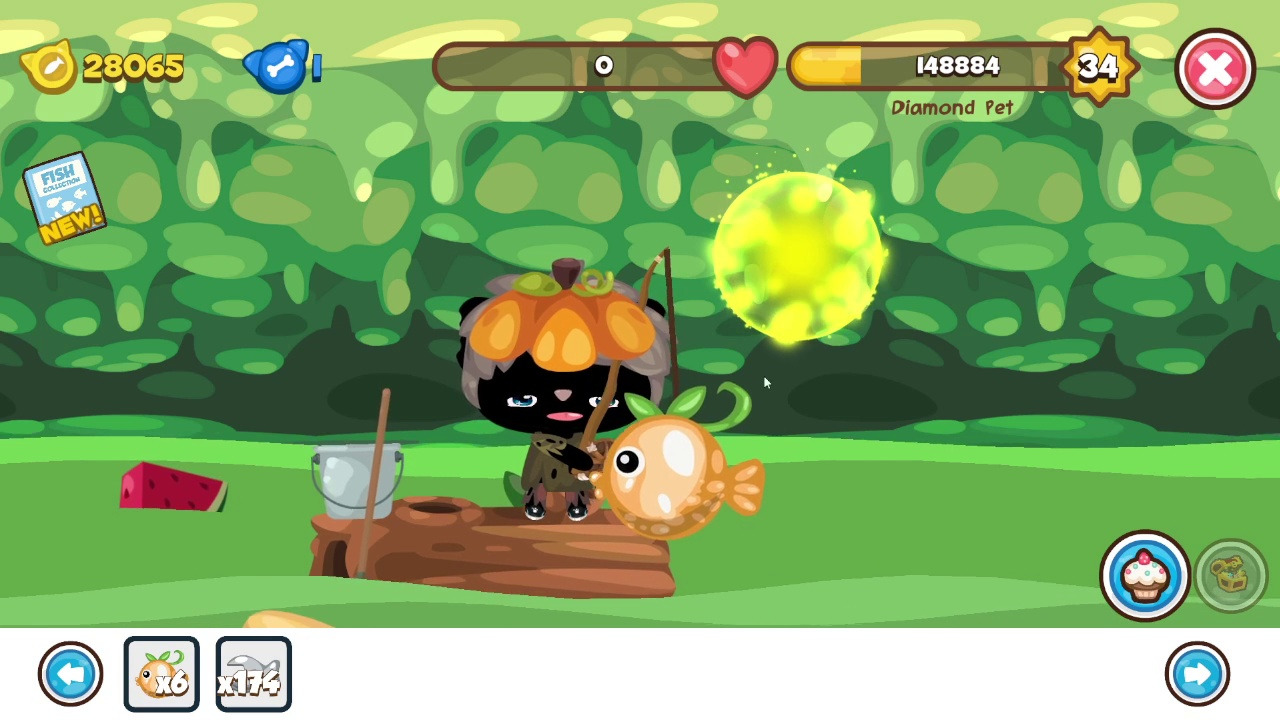point: (712, 169, 887, 344)
